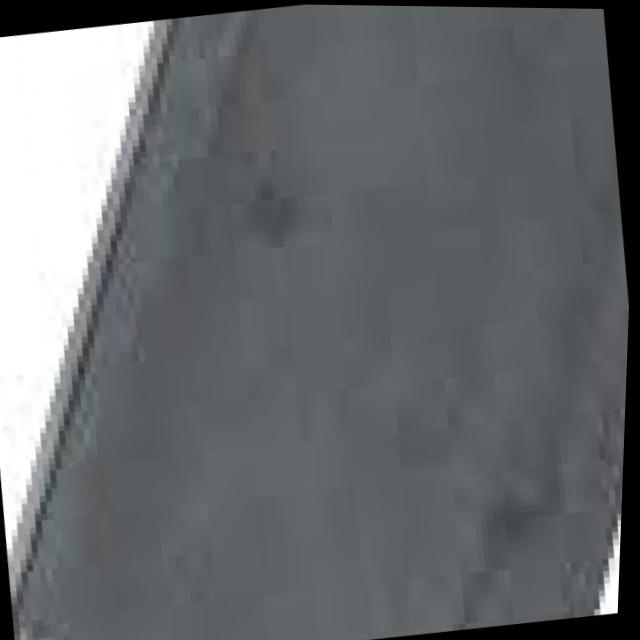metal-plates: (10, 4, 632, 640)
